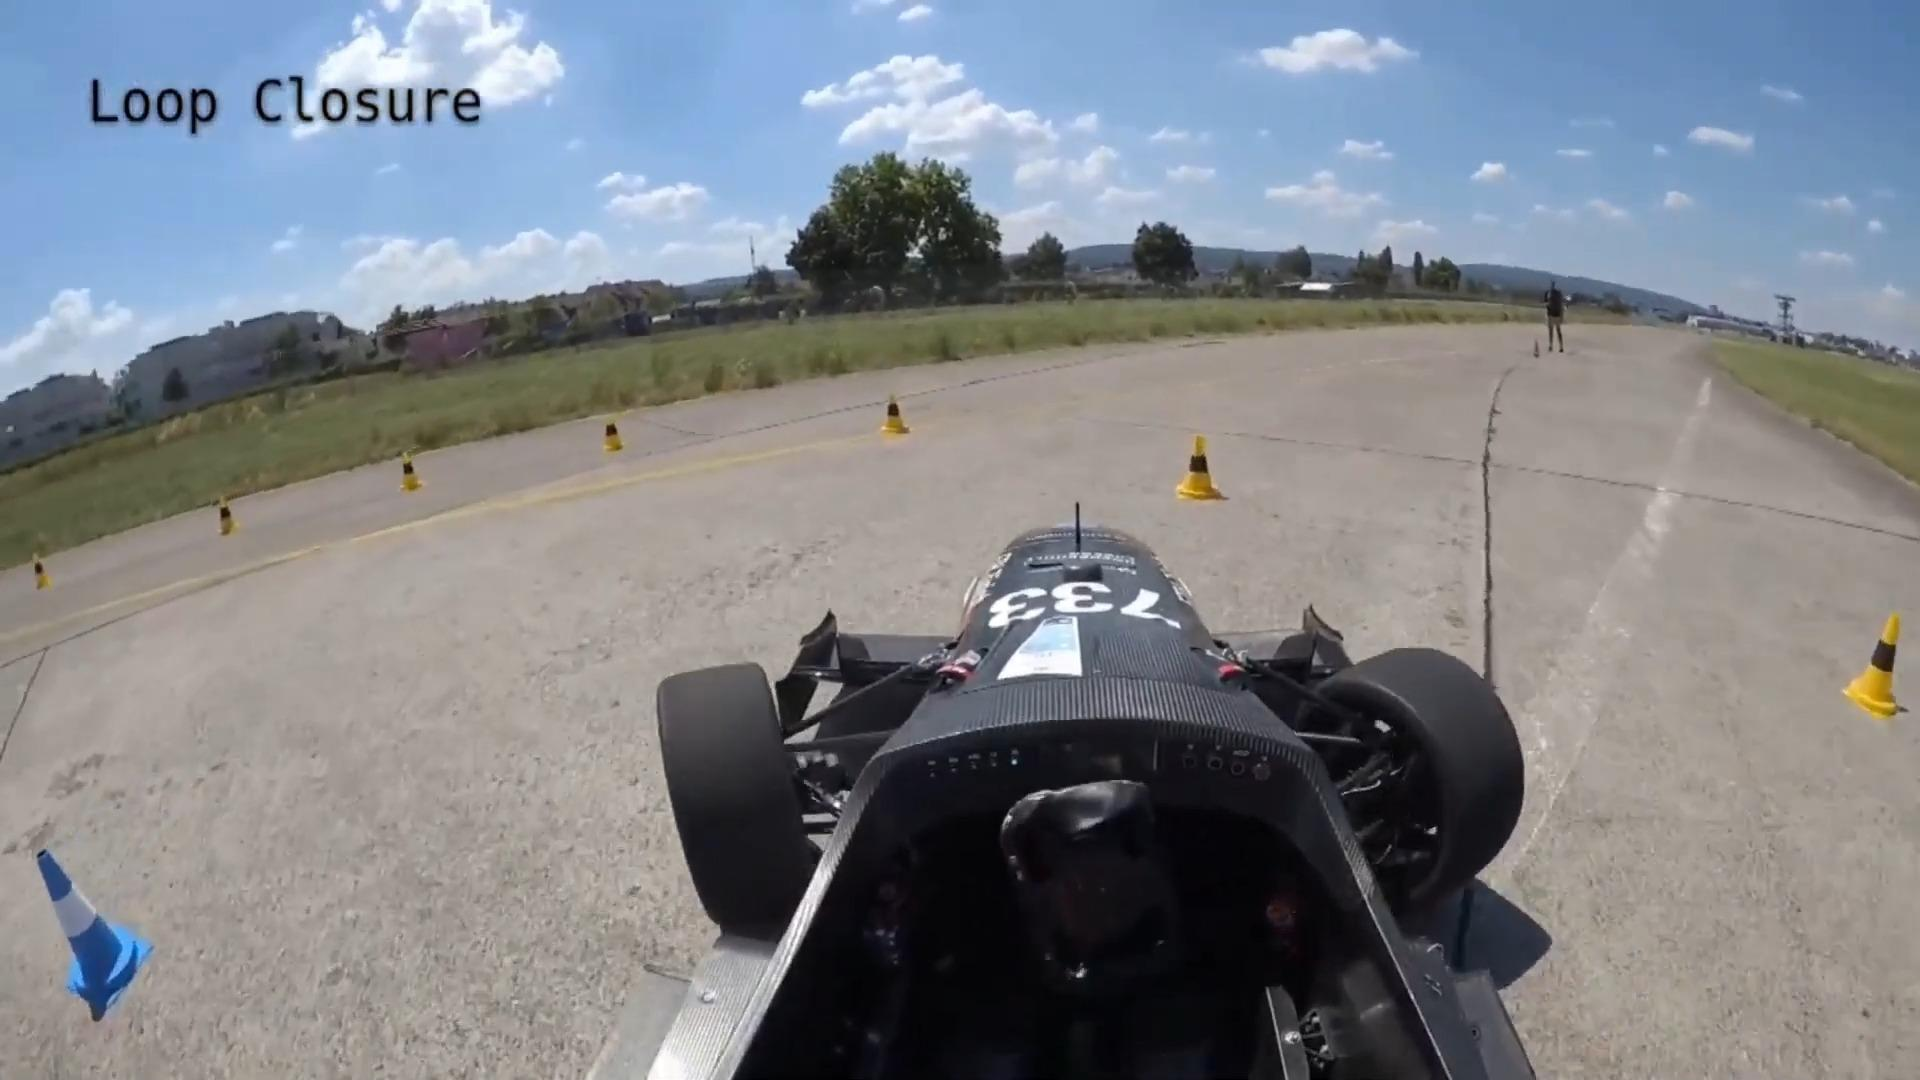blue_cone: (34, 818, 145, 1014)
yellow_cone: (1845, 601, 1905, 721), (1171, 426, 1228, 505), (882, 390, 911, 438), (29, 543, 58, 591), (397, 446, 425, 495), (599, 410, 630, 452), (215, 492, 244, 537)
